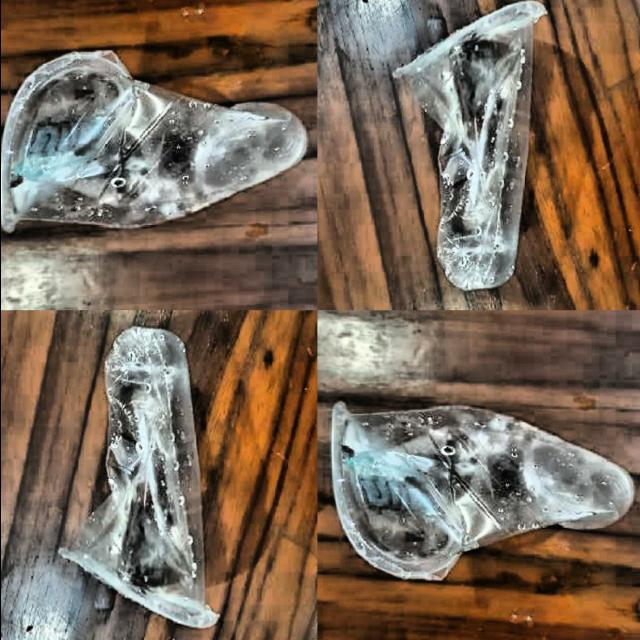plastik: (0, 51, 306, 231), (330, 402, 633, 579), (57, 327, 218, 628), (391, 1, 546, 291)
